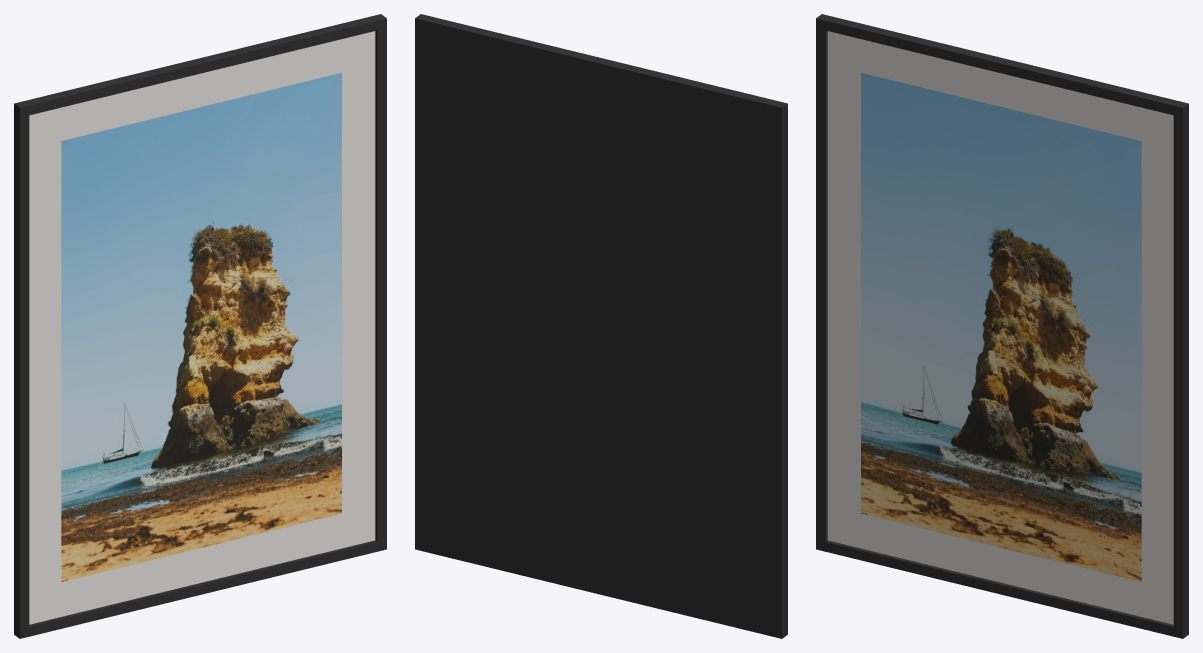
File: klippan-90.gltf
The picture shows the model from 3 angles, left to right: view 1: azimuth 30°, elevation 25°; view 2: azimuth 150°, elevation 25°; view 3: azimuth 330°, elevation 25°; orthographic projection.
Visible parts, largest first — view 1: tavla; view 2: tavla; view 3: tavla.
Boxes of the visible parts, x1,y1,x2,y2 form: tavla: [14, 14, 386, 638]; tavla: [415, 14, 787, 638]; tavla: [816, 14, 1188, 638].
Bounding box in the file's own units: 0.784 × 1.08 × 0.022.
3 materials, 1 textured.
